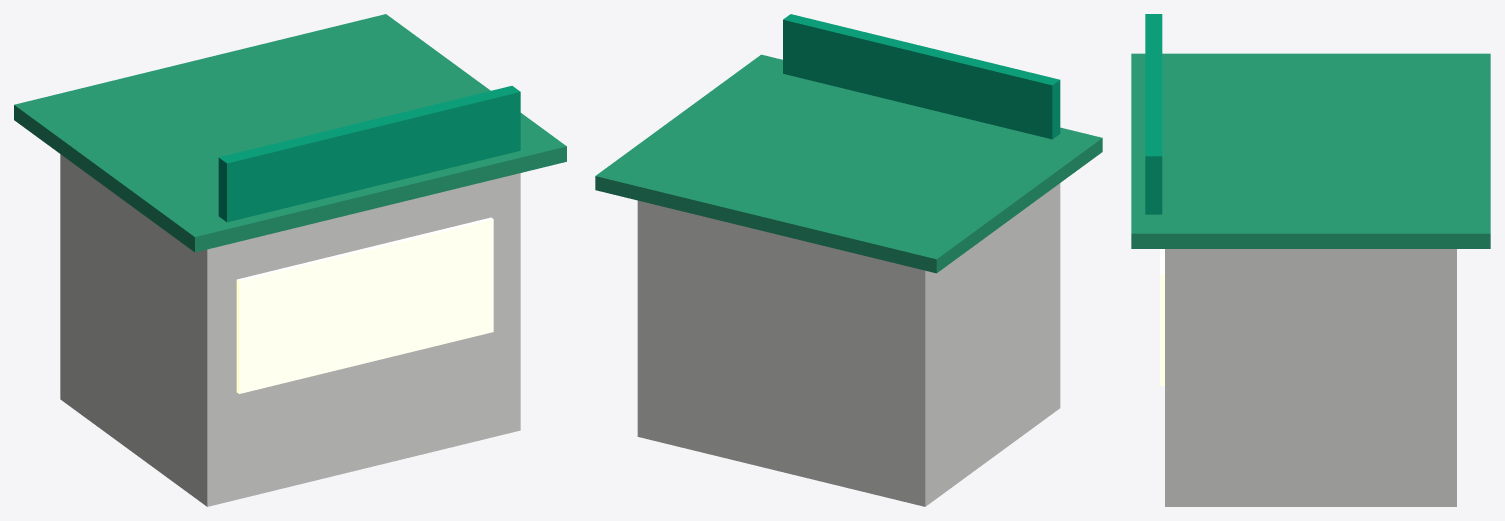
The model's file is SM_Kiosk.fbx.
3 views of the same model, side by side, from view 1: azimuth 30°, elevation 25°; view 2: azimuth 150°, elevation 25°; view 3: azimuth 270°, elevation 25° (orthographic). The views are drawn at different scales.
Visible parts, largest first — view 1: SM_Kiosk; view 2: SM_Kiosk; view 3: SM_Kiosk.
Boxes of the visible parts, x1,y1,x2,y2 form: SM_Kiosk: (14, 14, 566, 506); SM_Kiosk: (595, 14, 1102, 506); SM_Kiosk: (1131, 14, 1490, 506).
Size of the model in its own units: 380 by 340 by 320.
